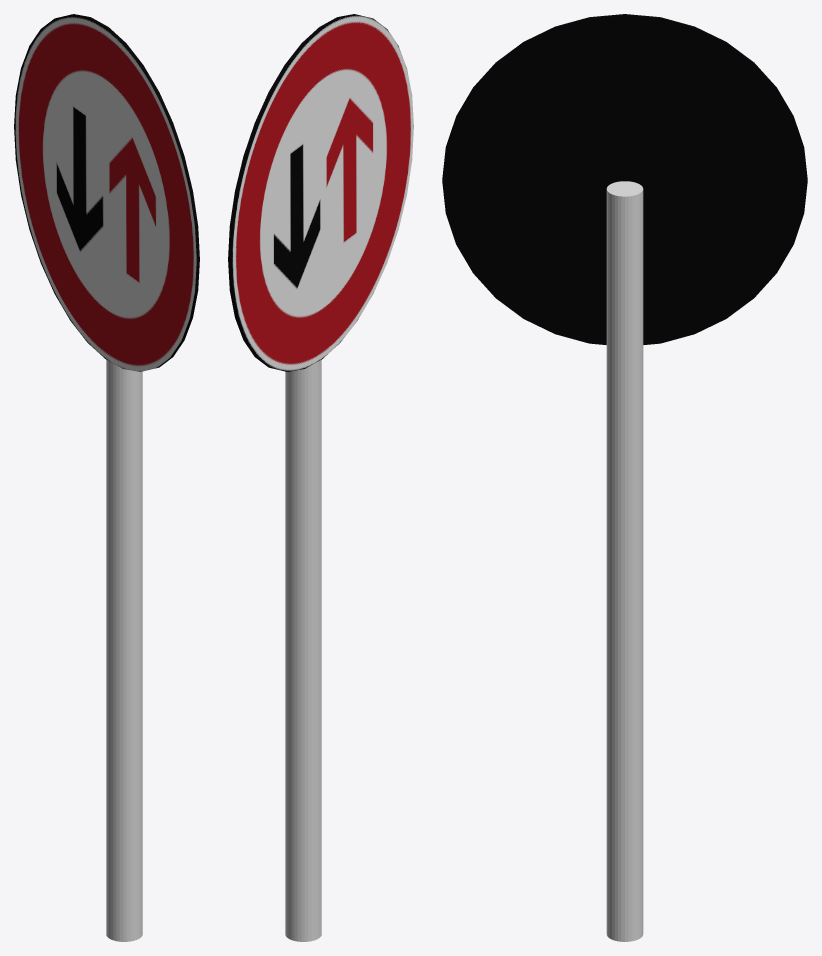
The model's file is oncoming_traffic_sign.dae.
The picture shows the model from 3 angles, left to right: view 1: azimuth 30°, elevation 25°; view 2: azimuth 150°, elevation 25°; view 3: azimuth 270°, elevation 25°; orthographic projection.
Parts seen in each view (by area): view 1: Circle, Cylinder; view 2: Circle, Cylinder; view 3: Circle, Cylinder.
Part boxes in pixels (box(x1,y1,x2,y2)): Circle: box(14, 14, 199, 371); Cylinder: box(106, 360, 142, 941); Circle: box(228, 14, 413, 371); Cylinder: box(285, 360, 321, 941); Circle: box(442, 14, 807, 344); Cylinder: box(606, 181, 643, 941).
Bounding box in the file's own units: 0.011 × 0.1 × 0.275.
3 materials, 2 textured.
